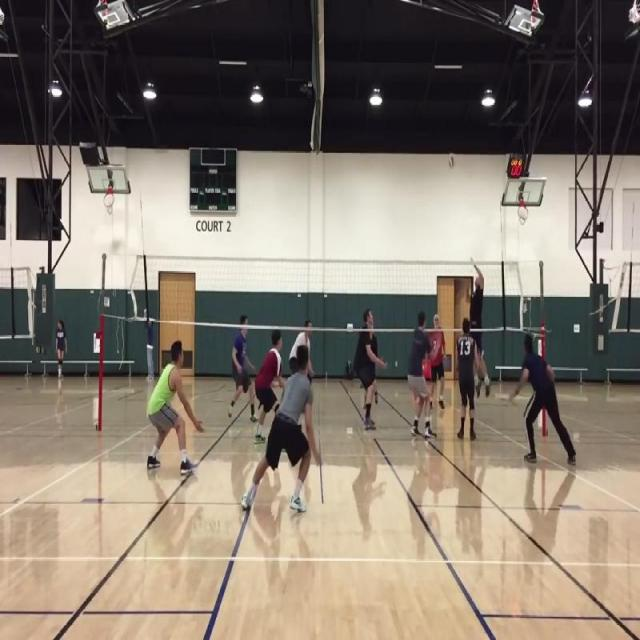volleyball: (449, 156, 454, 166)
